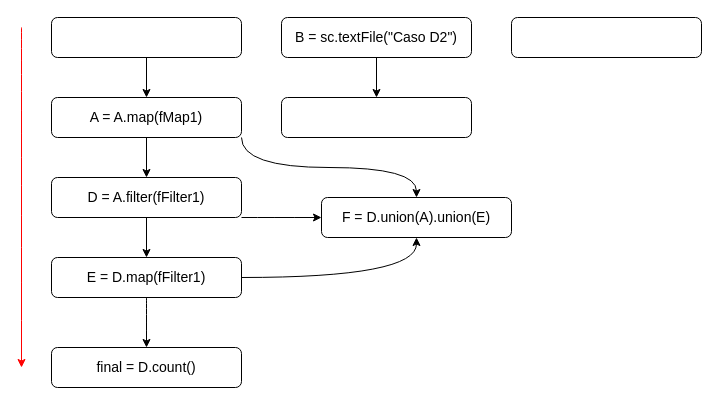
This 719x405 diagram has some shape labels left out. Here are the shapes that lost their labels. From the top down, the box of each, then its label:
(50, 16, 242, 58): A = sc.textFile("Caso D1")
(510, 16, 702, 58): C = sc.textFile("Caso D3")
(280, 96, 472, 138): B = B.filter(fFilter1)
